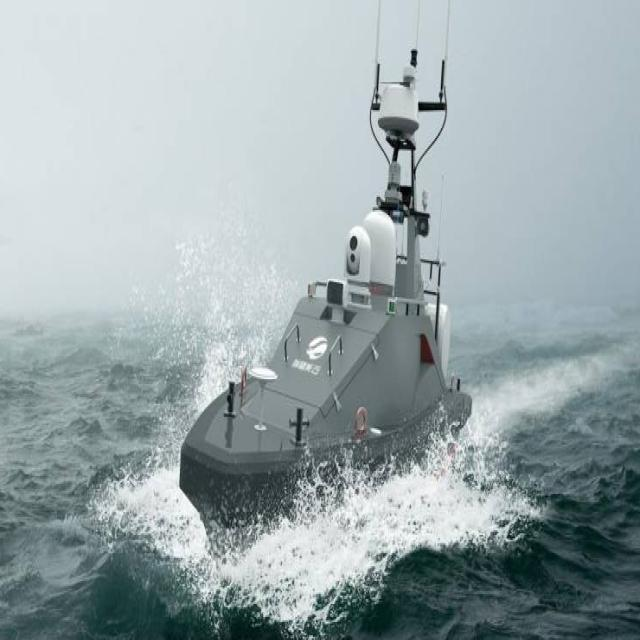navalvessels: (175, 16, 474, 552)
